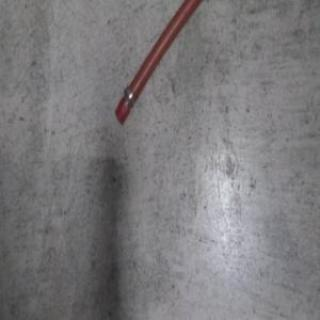Hosetrack_idkeyframe: (113, 0, 209, 127)
